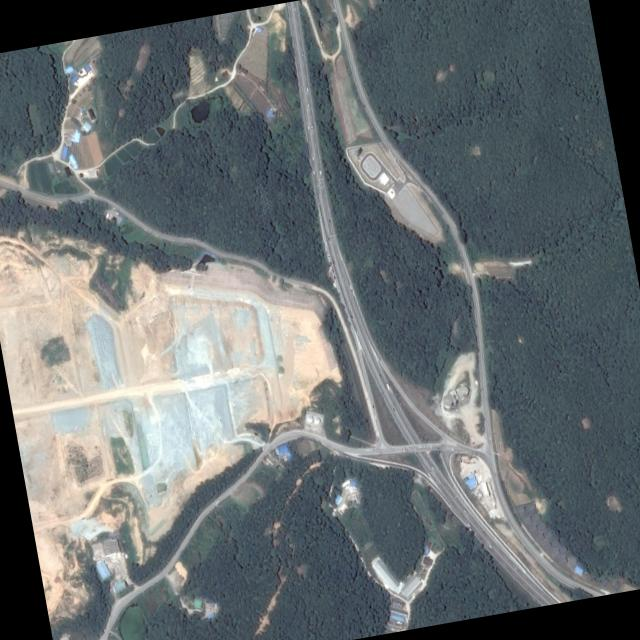storage-tank: (440, 395, 453, 410), (304, 413, 319, 424)
